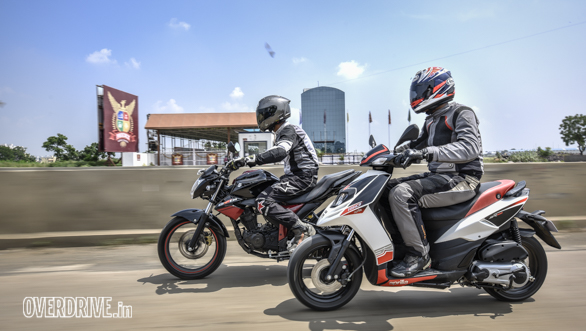with_helmet: (407, 71, 458, 108), (258, 98, 287, 128)
